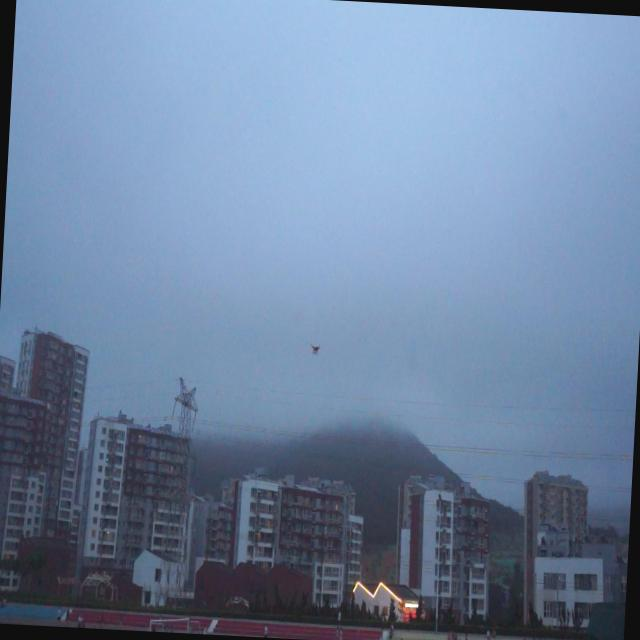drone: (308, 341, 322, 358)
